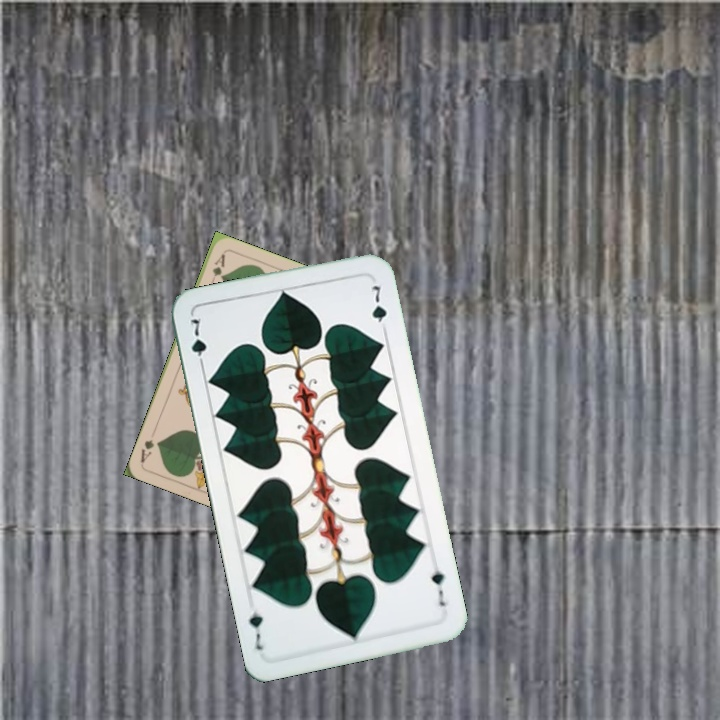G7: (186, 313, 209, 372), (427, 566, 448, 609)
GA: (206, 250, 228, 289)
